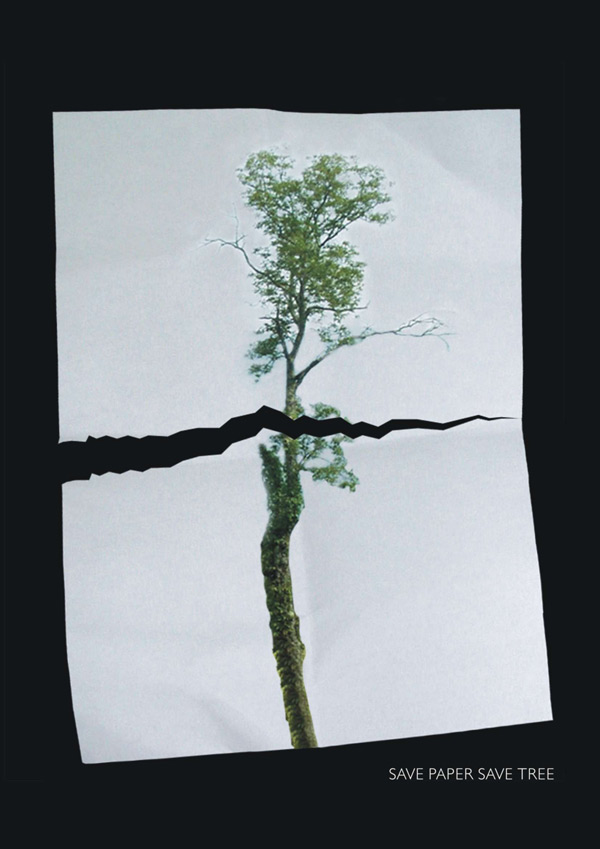paper: (28, 72, 570, 768), (44, 414, 579, 767), (42, 97, 537, 451)
